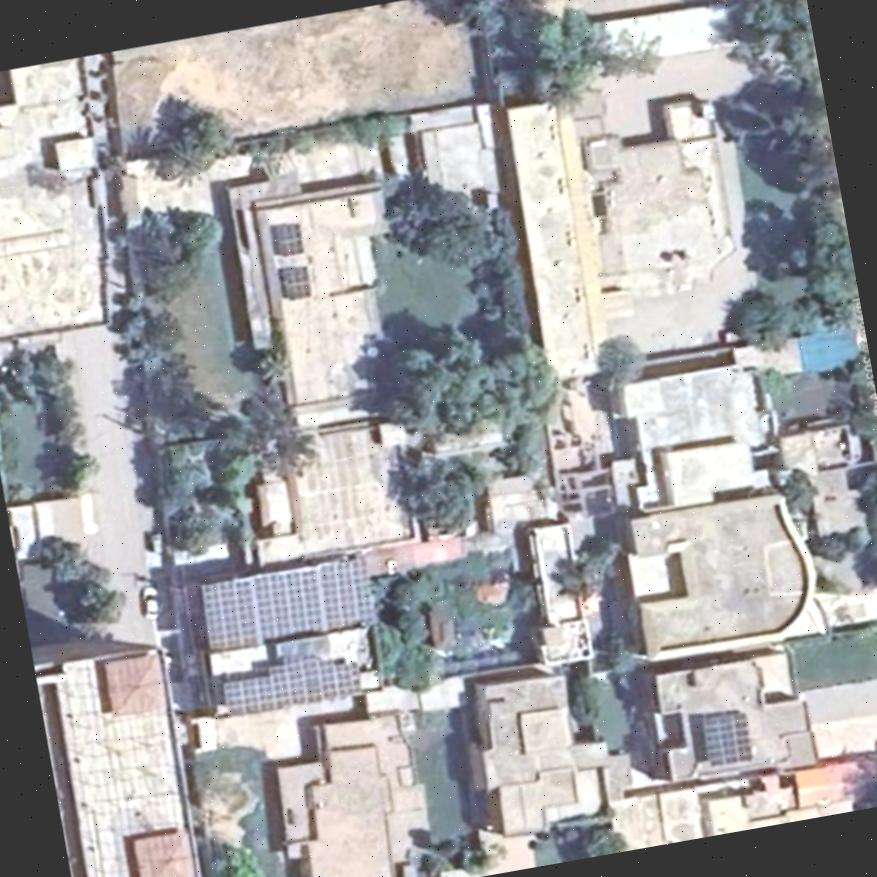Solarpanel: (202, 555, 371, 651), (225, 661, 360, 716), (702, 714, 749, 764), (280, 264, 309, 301), (278, 225, 302, 254)
